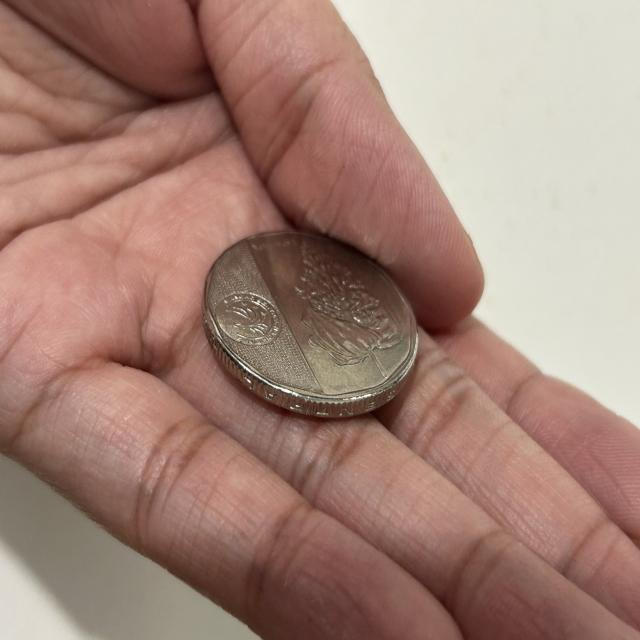10_New_Back: (218, 228, 390, 408)
